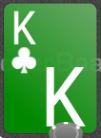Clover: (12, 47, 37, 73)
